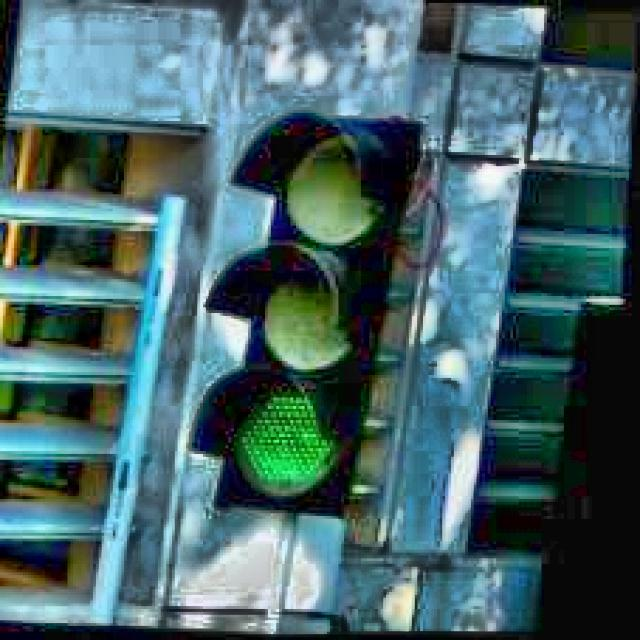green: (183, 109, 426, 523)
